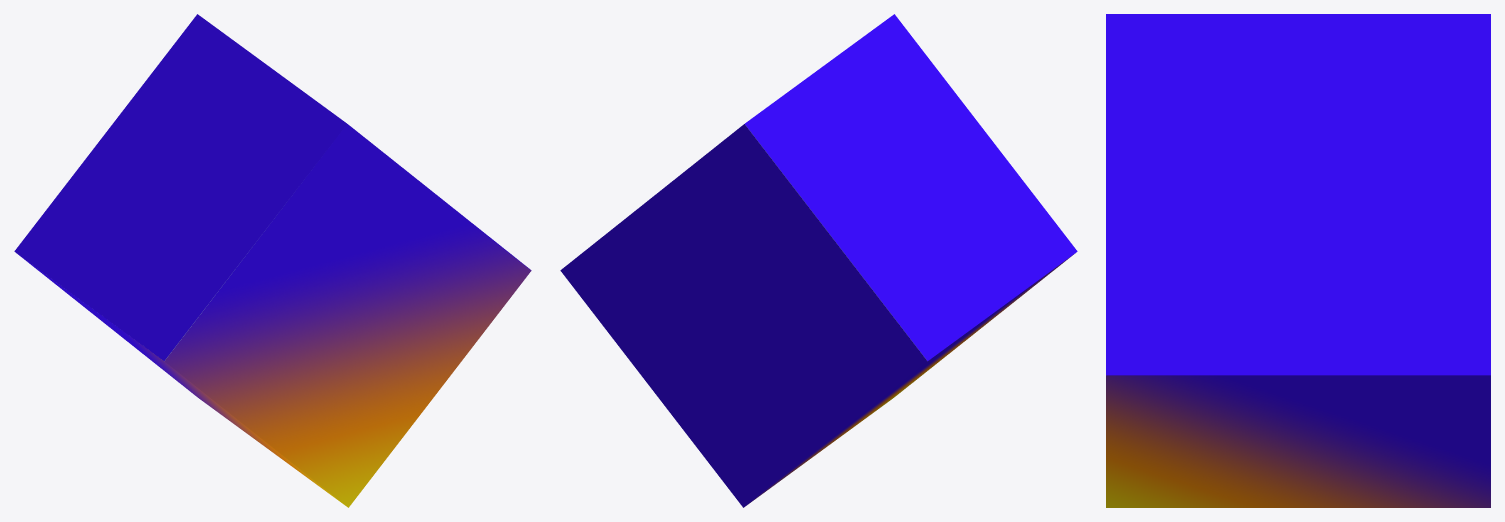
File: magma.glb
3 views of the same model, side by side, from view 1: azimuth 30°, elevation 25°; view 2: azimuth 150°, elevation 25°; view 3: azimuth 270°, elevation 25° (orthographic). The views are drawn at different scales.
Parts seen in each view (by area): view 1: Cube; view 2: Cube; view 3: Cube.
Boxes of the visible parts, <box> form: Cube: <box>14,14,531,507</box>; Cube: <box>560,14,1077,507</box>; Cube: <box>1106,14,1490,507</box>.
Bounding box in the file's own units: 2.83 × 2.83 × 2.
1 material, 1 textured.
